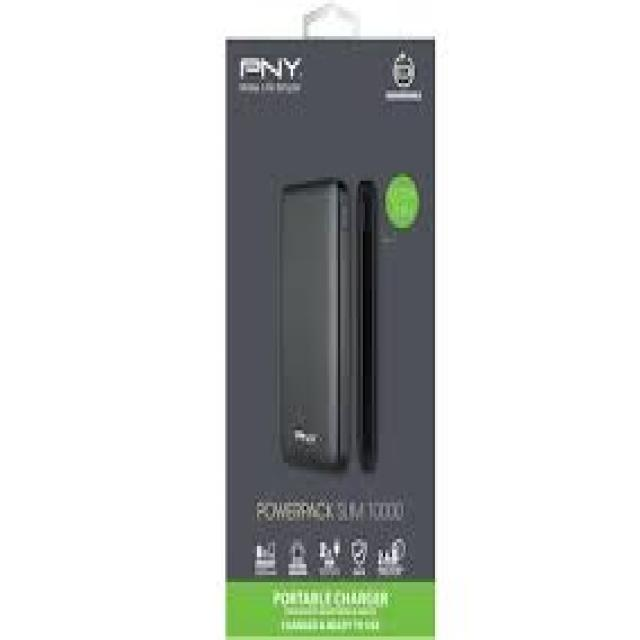power_bank: (270, 166, 360, 484)
